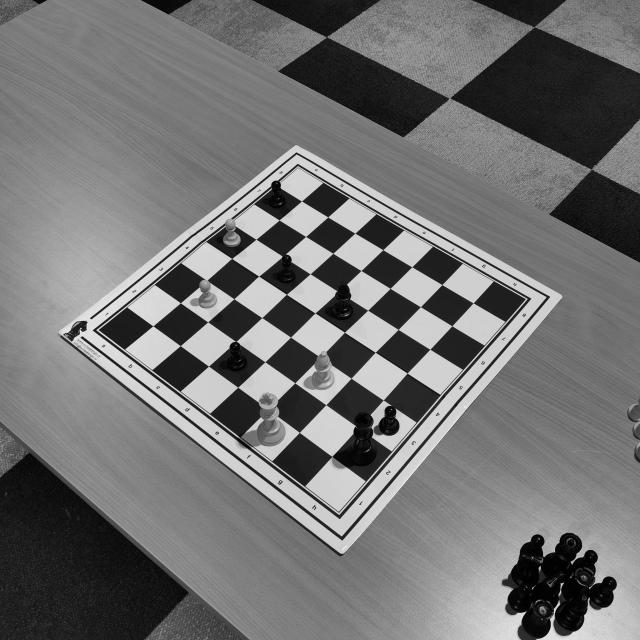chessboard: (99, 167, 527, 517)
